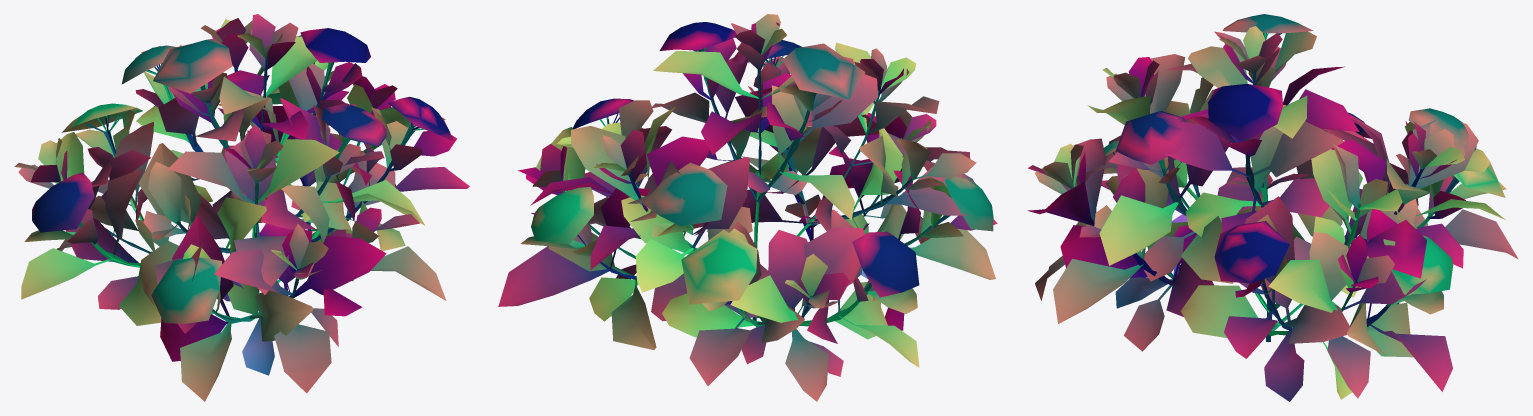
File: Bigleaf_Hydrangea_vgztealha_Mid_vgztealha_VarA_LOD2.fbx
3 renders of one model, left to right at view 1: azimuth 30°, elevation 25°; view 2: azimuth 150°, elevation 25°; view 3: azimuth 270°, elevation 25°, orthographic. The views are drawn at different scales.
Parts seen in each view (by area): view 1: _3mb8_VarA_LOD4; view 2: _3mb8_VarA_LOD4; view 3: _3mb8_VarA_LOD4.
Part boxes in pixels (left/top/right/bottom): _3mb8_VarA_LOD4: left=14, top=14, right=469, bottom=401; _3mb8_VarA_LOD4: left=498, top=14, right=997, bottom=401; _3mb8_VarA_LOD4: left=1027, top=14, right=1518, bottom=401.
Bounding box in the file's own units: 104 × 72.68 × 105.
